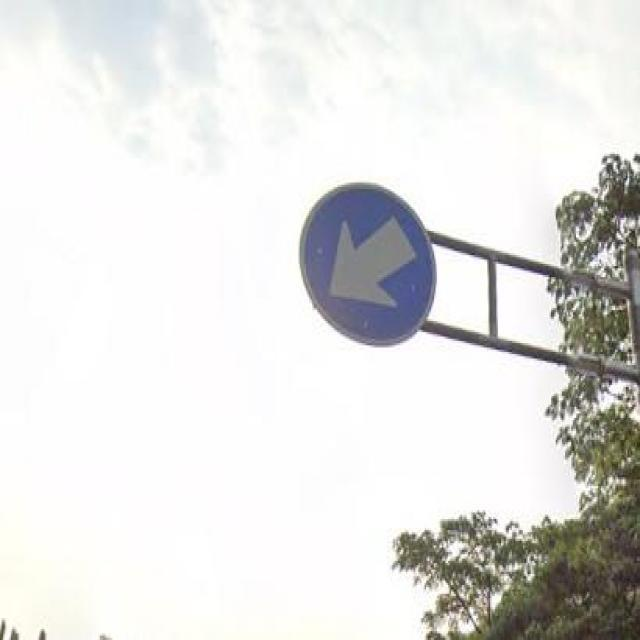traffic sign: (306, 182, 431, 340)
